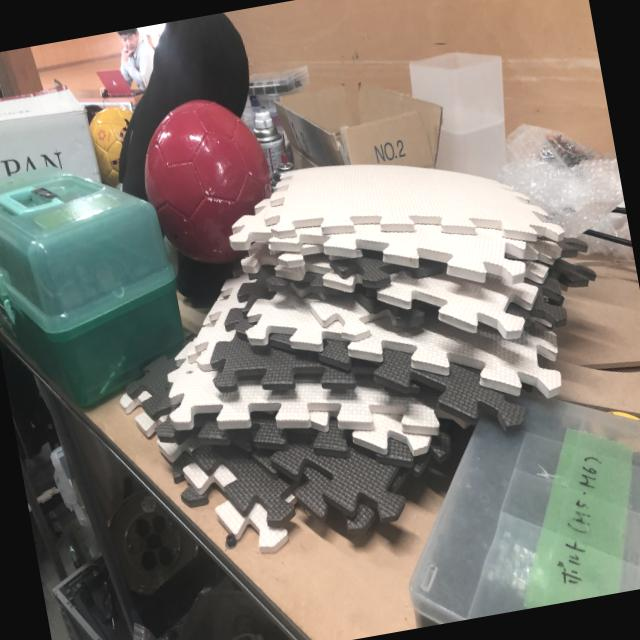red_ball: (131, 90, 285, 278)
